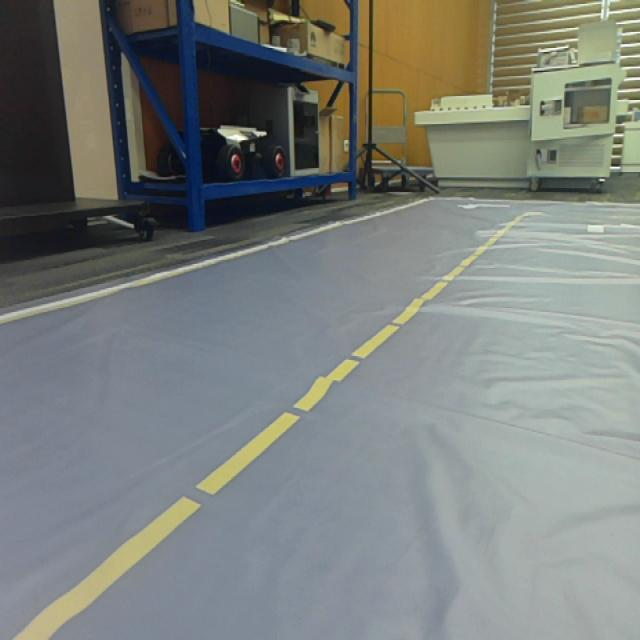left_lane: (11, 217, 524, 639)
